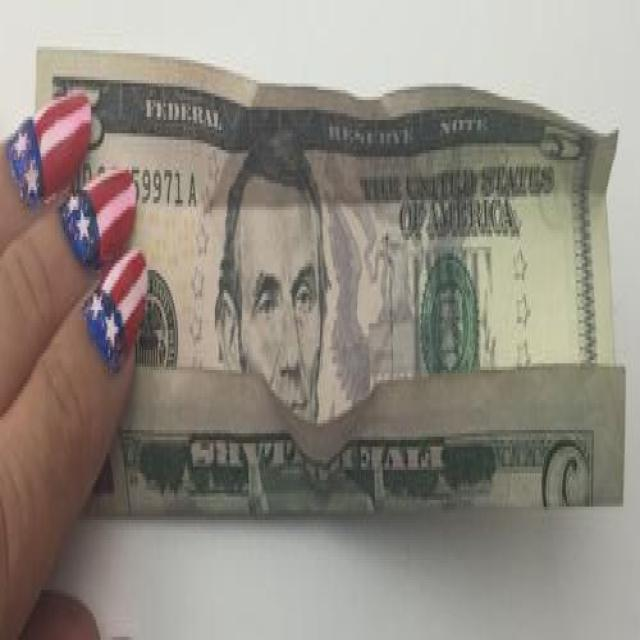5-Front: (33, 43, 627, 517)
